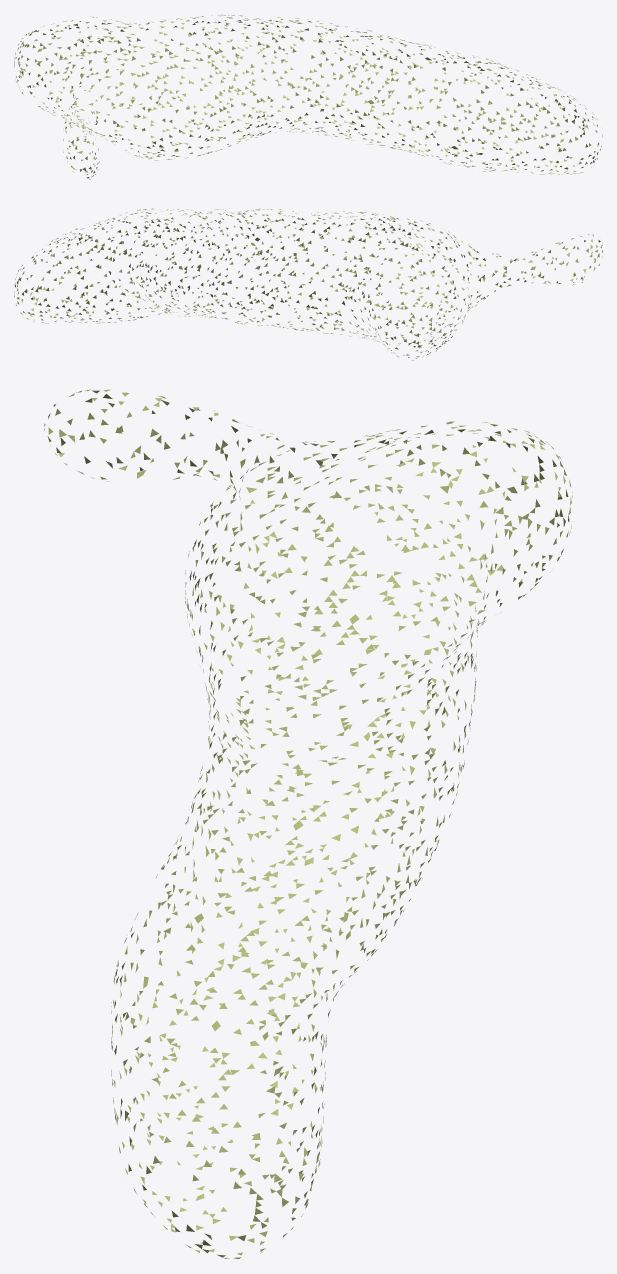
The model's file is morph_010.glb.
3 renders of one model, top to bottom at view 1: azimuth 30°, elevation 25°; view 2: azimuth 150°, elevation 25°; view 3: azimuth 270°, elevation 25°, orthographic. The views are drawn at different scales.
Size of the model in its own units: 102 by 37.77 by 43.32.
